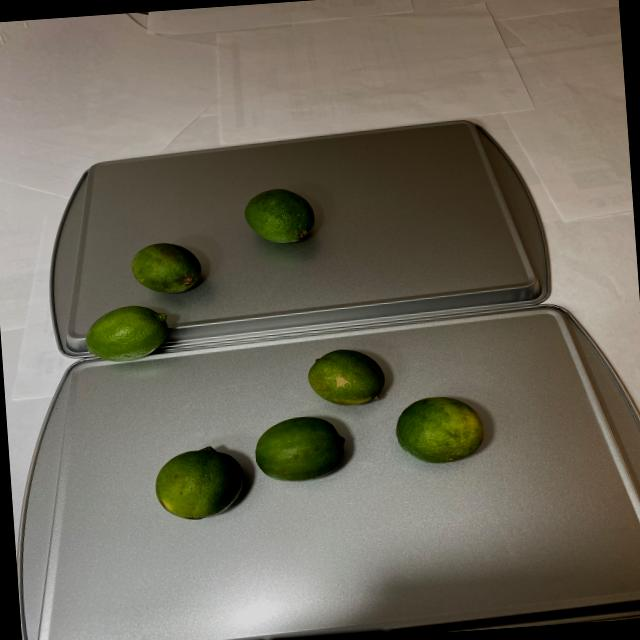lemon: (145, 339, 493, 525), (75, 184, 322, 368)
